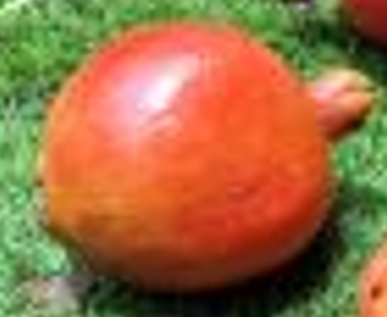pomegranate_A: (36, 21, 381, 294)
